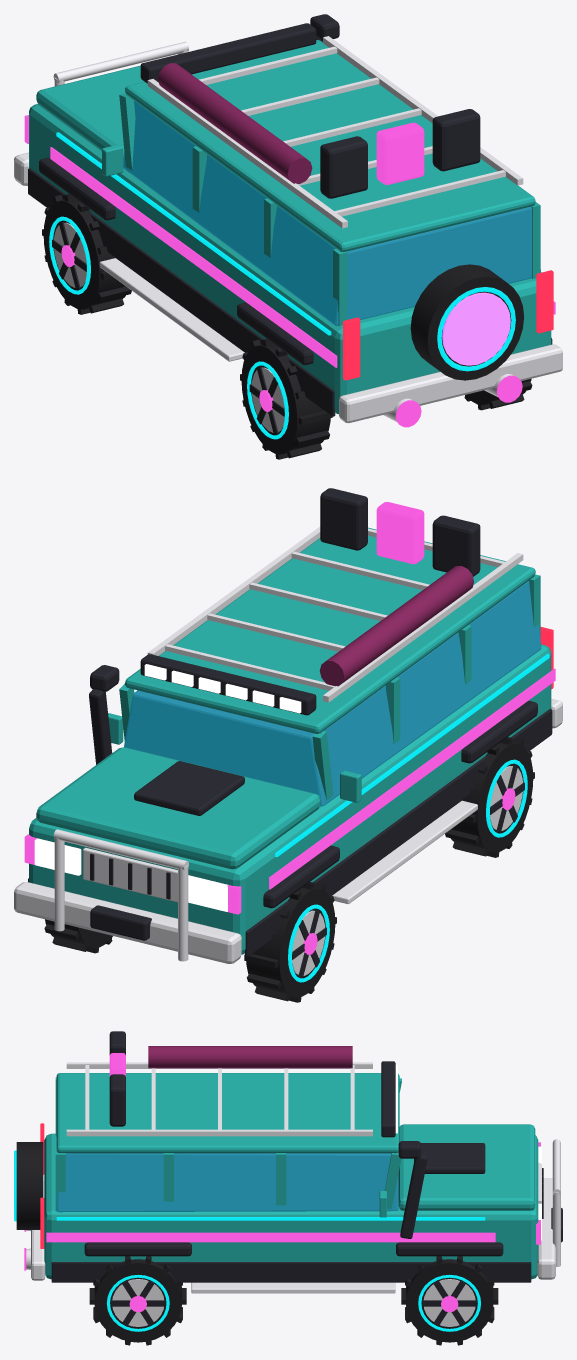
Rendered from nomad_4x4.glb.
The picture shows the model from 3 angles, top to bottom: view 1: azimuth 30°, elevation 25°; view 2: azimuth 150°, elevation 25°; view 3: azimuth 270°, elevation 25°; orthographic projection. The views are drawn at different scales.
Parts seen in each view (by area): view 1: body, wheel_rl, wheel_fl, wheel_rr; view 2: body, wheel_fl, wheel_rl, wheel_fr; view 3: body, wheel_rr, wheel_fr.
Part boxes in pixels (bbox=[...]): body: bbox=[14, 14, 562, 427]; wheel_rl: bbox=[240, 338, 332, 459]; wheel_fl: bbox=[42, 194, 131, 314]; wheel_rr: bbox=[464, 378, 532, 410]; body: bbox=[14, 488, 562, 963]; wheel_fl: bbox=[244, 882, 336, 1002]; wheel_rl: bbox=[445, 737, 534, 857]; wheel_fr: bbox=[44, 919, 112, 953]; body: bbox=[14, 1031, 562, 1293]; wheel_rr: bbox=[89, 1256, 186, 1345]; wheel_fr: bbox=[401, 1256, 498, 1345].
Size of the model in its own units: 2.28 by 2.61 by 5.38.
